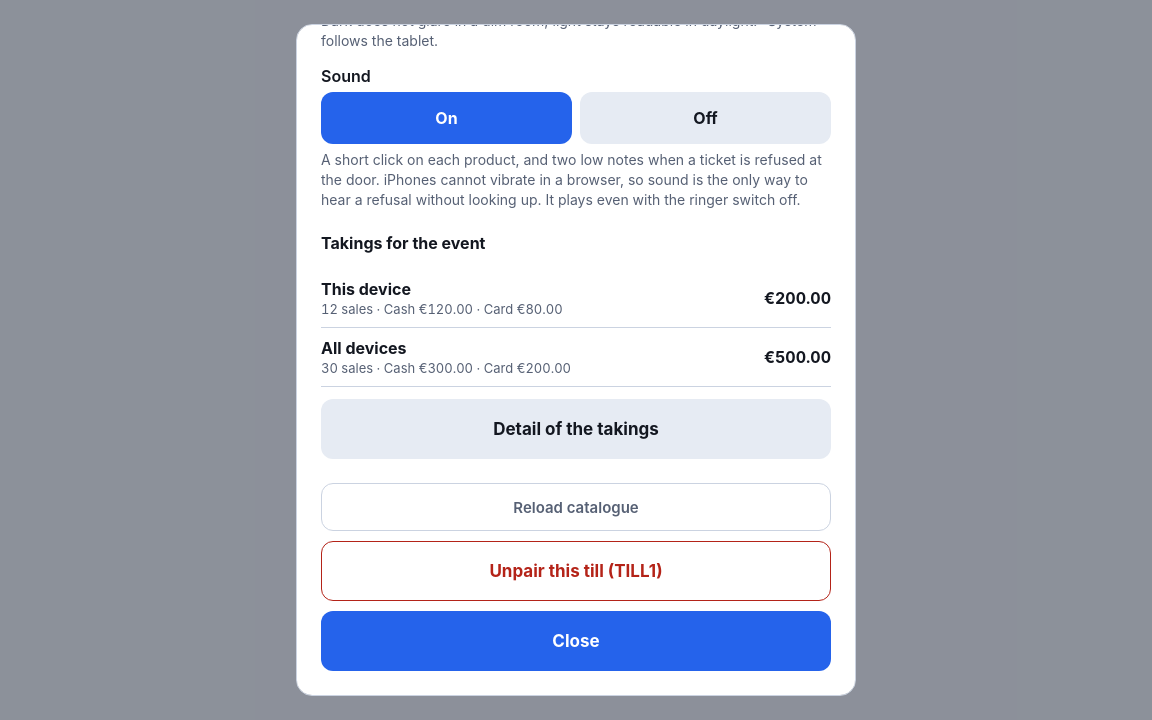
the takings › opens the detail, and closing it comes back here
This screenshot has width=1152, height=720.
(page scrolled)
Click the button "Detail of the takings" at (576, 429), box [321, 399, 831, 459]
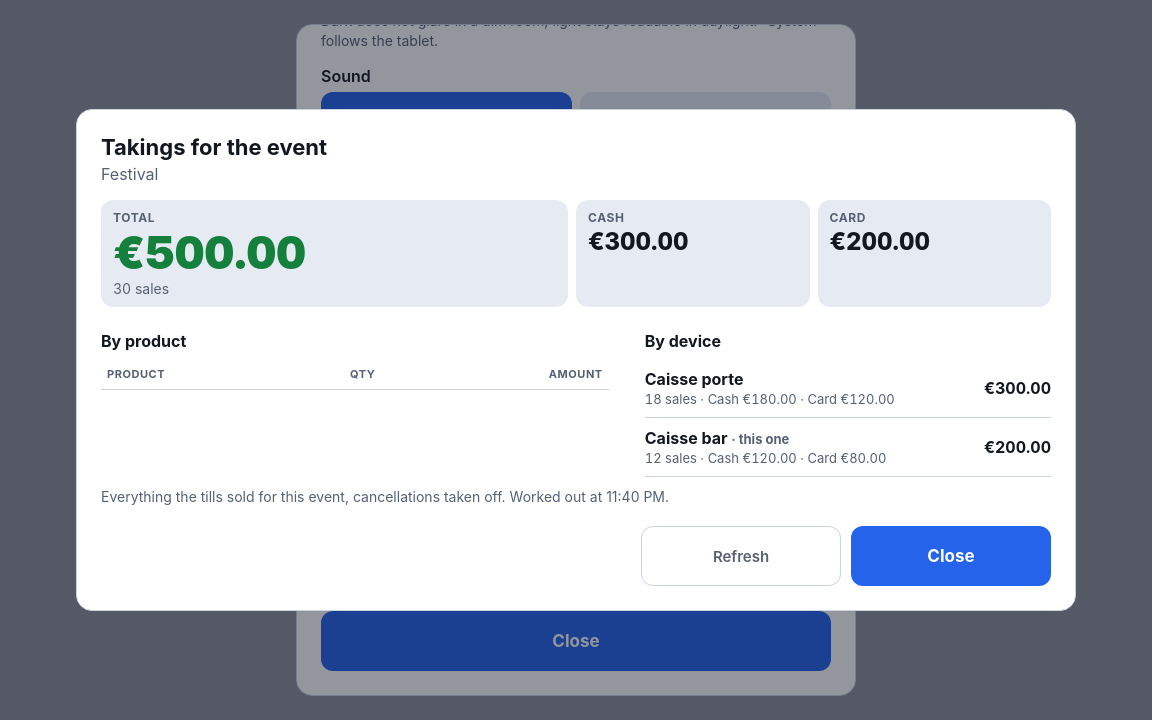
Check: the heading "Takings for the event" is shown, box [101, 134, 327, 160]
Check: the text "Caisse porte" is shown, box [645, 368, 744, 388]
Click the button "Close" at (951, 556), box [851, 526, 1051, 586]
(page scrolled)
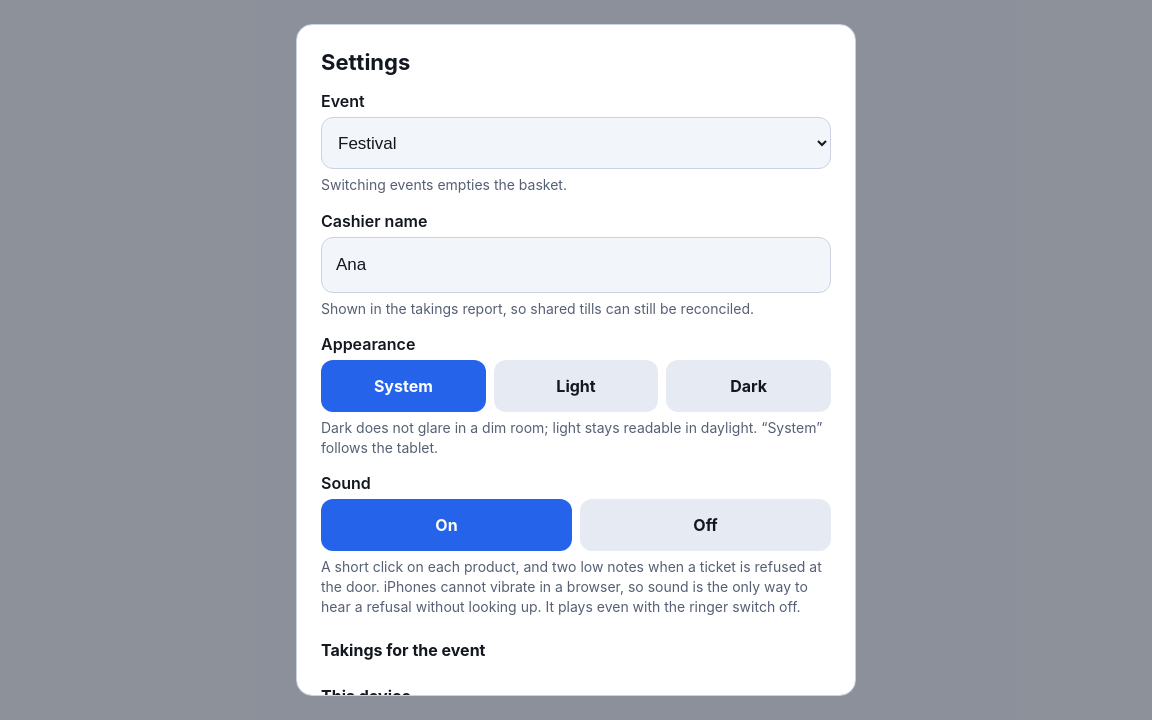
Check: the heading "Settings" is shown, box [321, 49, 410, 75]
